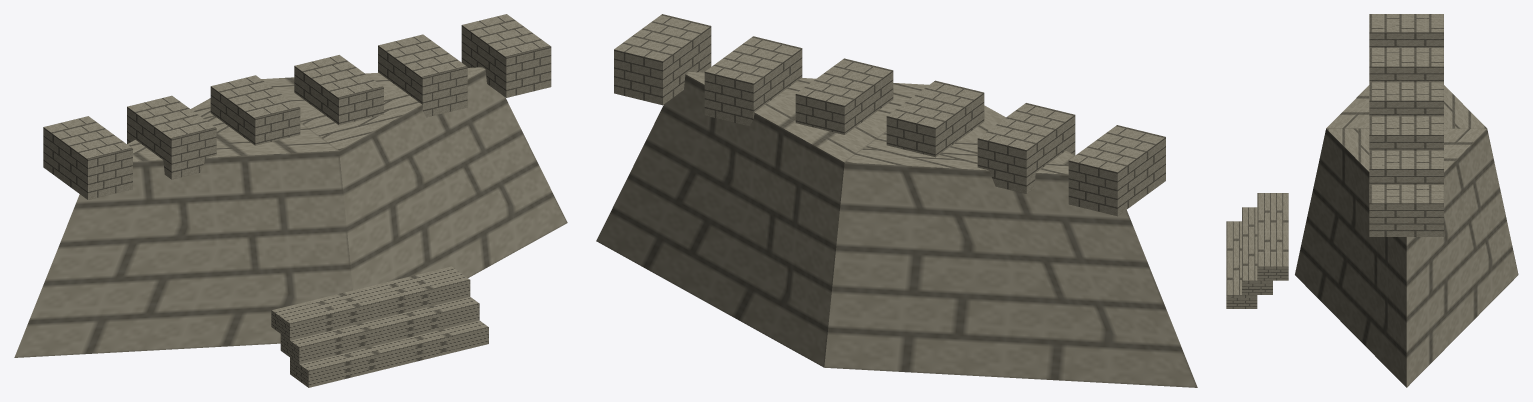
Rendered from military-STONE_WALL-1-lod0.glb.
3 views of the same model, side by side, from view 1: azimuth 30°, elevation 25°; view 2: azimuth 150°, elevation 25°; view 3: azimuth 270°, elevation 25° (orthographic). The views are drawn at different scales.
Bounding box in the file's own units: 0.86 × 0.3 × 0.47.
1 material, 1 textured.
